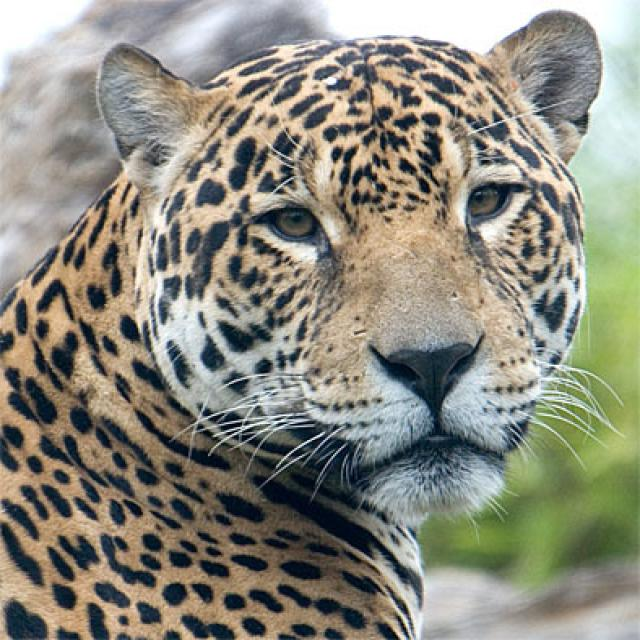Leopard: (0, 0, 634, 637)
